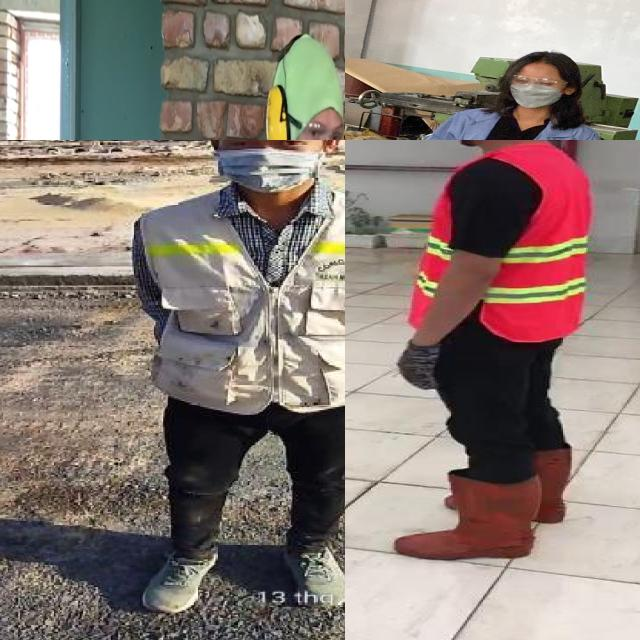Ear-protection: (265, 29, 345, 140)
boots: (398, 470, 542, 559)
face_mask: (214, 140, 325, 193), (508, 73, 564, 105)
glasses: (508, 72, 570, 89)
hand_glove: (392, 343, 446, 391)
head_nohelmet: (506, 47, 574, 74)
person: (123, 140, 345, 620), (394, 140, 605, 563), (360, 43, 622, 140)
shoes: (136, 538, 222, 612), (273, 534, 345, 613)
vest: (136, 187, 345, 411), (401, 144, 595, 346)
